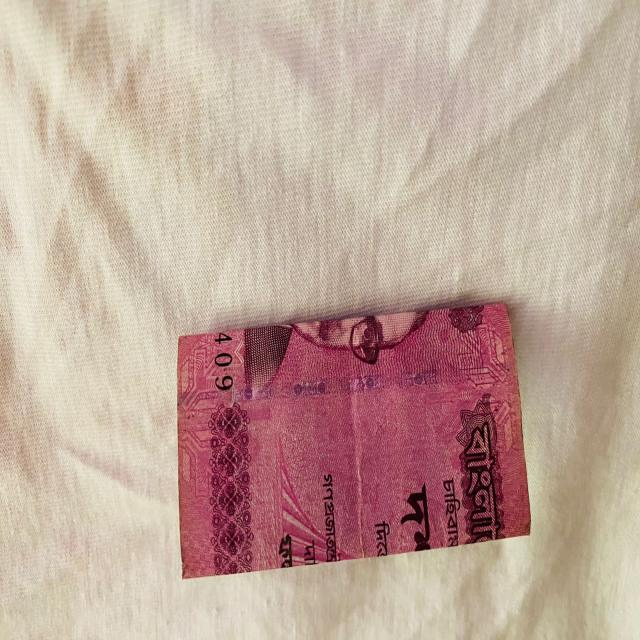Taka: (164, 306, 547, 589)
